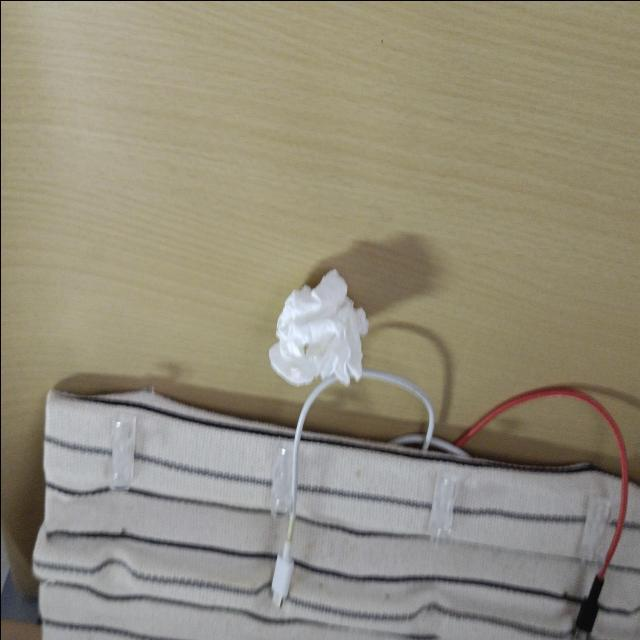Paper: (270, 274, 381, 402)
